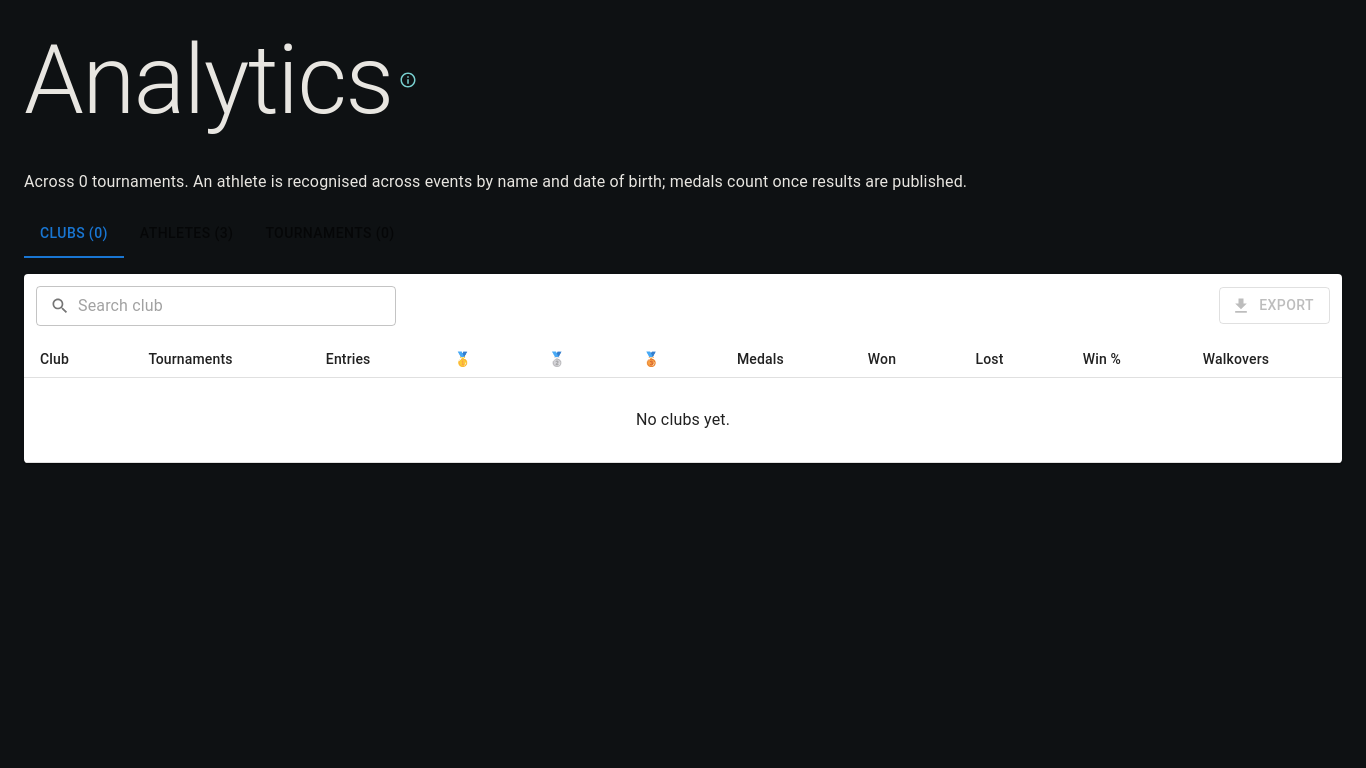
Test case: athletes joined or set apart on the Analytics screen › separates only lines matched by name and birthday: a line joined by hand leaves through Undo
The image size is (1366, 768).
Click the tab "Athletes (3)": [187, 234] box [124,210,249,258]
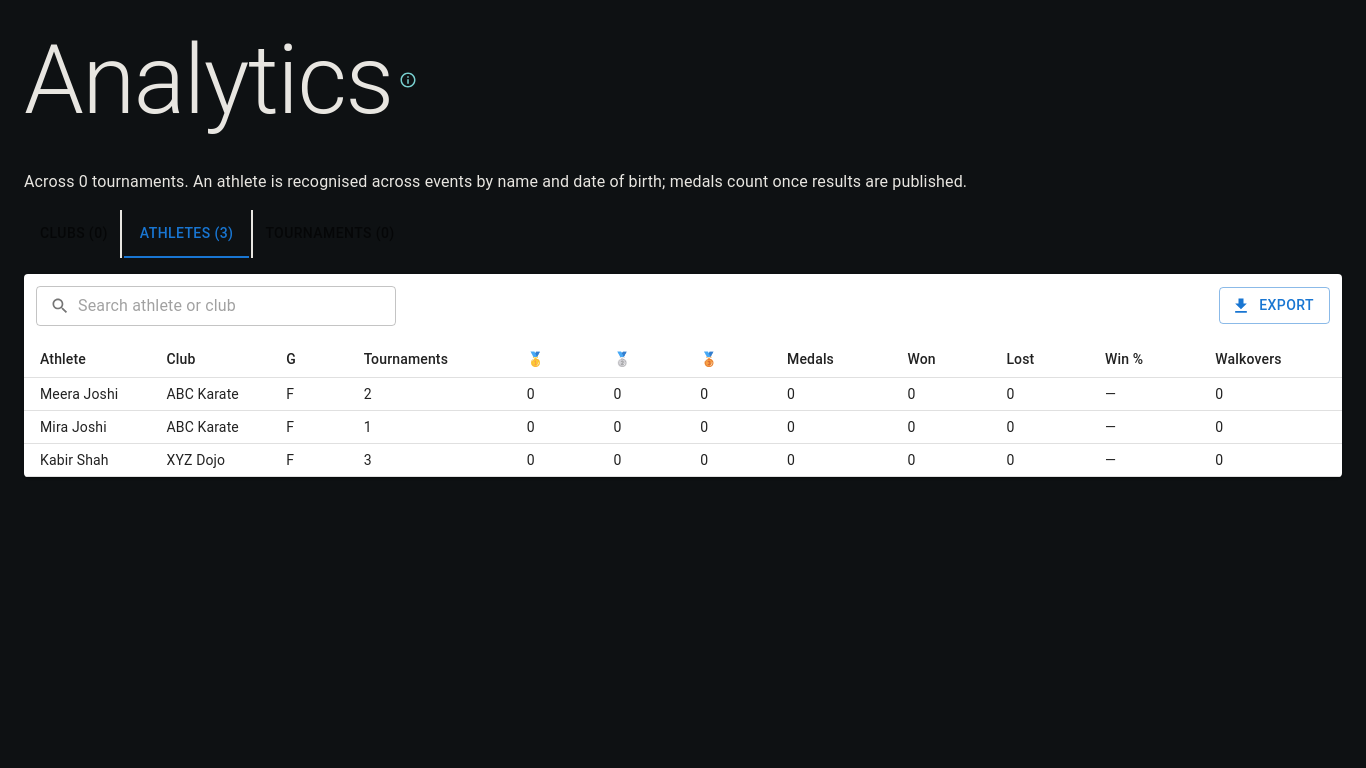
Click the text "Kabir Shah": [87, 460] box [24,444,150,476]
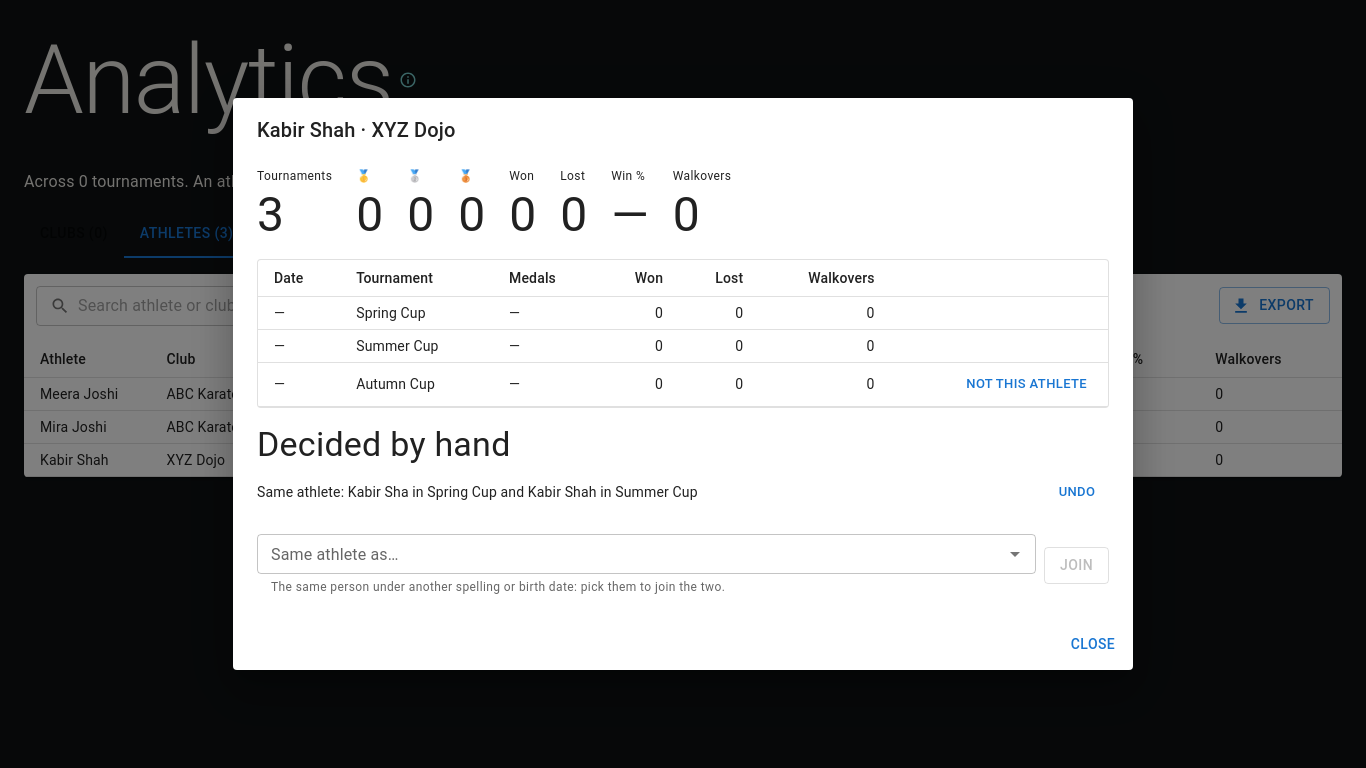
Expected: the button "Not this athlete" is shown, [961,369,1092,400]
Expected: the text "Same athlete: Kabir Sha in Spring Cup and Kabir Shah in Summer Cup" is shown, [257,484,698,500]
